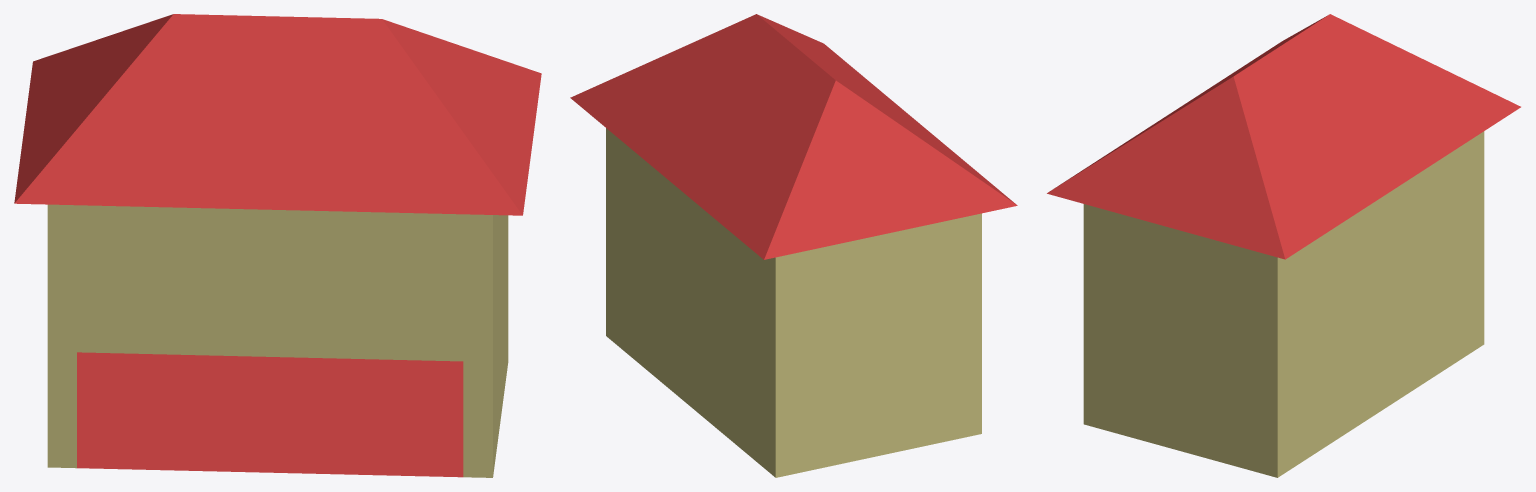
The picture shows the model from 3 angles, left to right: view 1: azimuth 30°, elevation 25°; view 2: azimuth 150°, elevation 25°; view 3: azimuth 270°, elevation 25°; orthographic projection. The views are drawn at different scales.
Visible parts, largest first — view 1: group_3, group_5, group_6, group_4; view 2: group_5, group_3, group_4; view 3: group_5, group_3, group_4.
Part boxes in pixels (bbox=[...]): group_3: bbox=[14, 14, 541, 215]; group_5: bbox=[47, 204, 508, 477]; group_6: bbox=[77, 352, 463, 477]; group_4: bbox=[14, 51, 541, 213]; group_5: bbox=[606, 128, 981, 477]; group_3: bbox=[606, 14, 1016, 225]; group_4: bbox=[570, 80, 1017, 259]; group_5: bbox=[1083, 131, 1484, 477]; group_3: bbox=[1047, 14, 1483, 259]; group_4: bbox=[1049, 88, 1520, 259].
Bounding box in the file's own units: 19.23 × 17.66 × 13.88.
